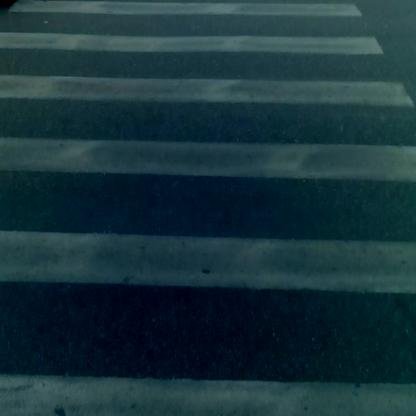crosswalk: (1, 11, 404, 416)
